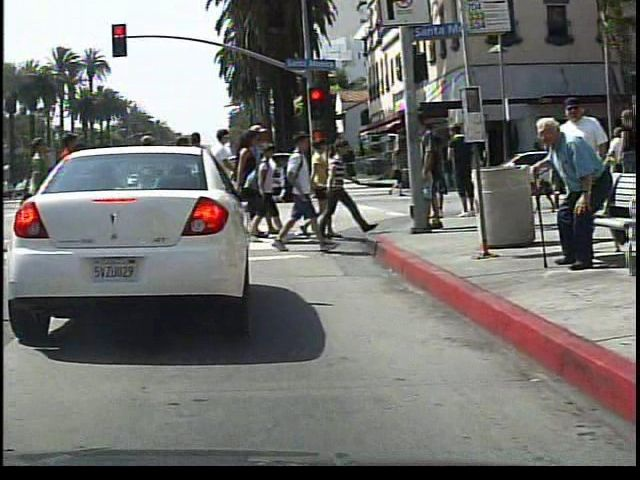person: (523, 119, 617, 277), (384, 138, 406, 197)
